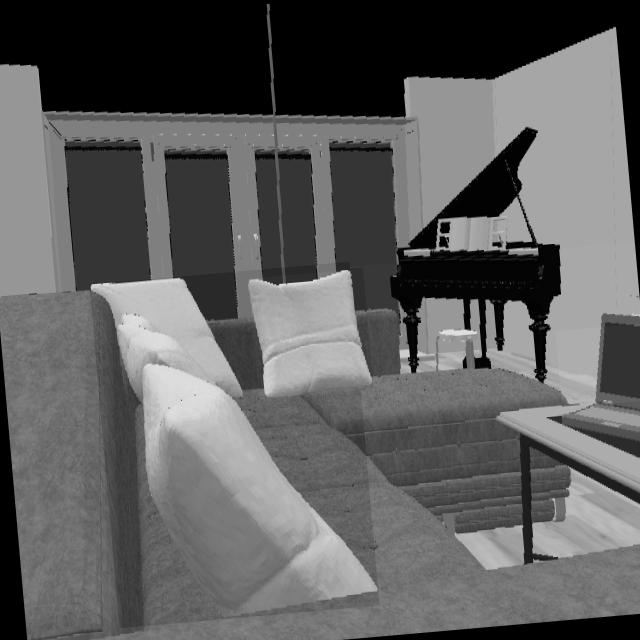laptop: (563, 324, 640, 441)
pillow: (90, 280, 378, 618), (248, 270, 373, 398)
sofa: (0, 291, 640, 640)
table: (496, 406, 640, 564)
